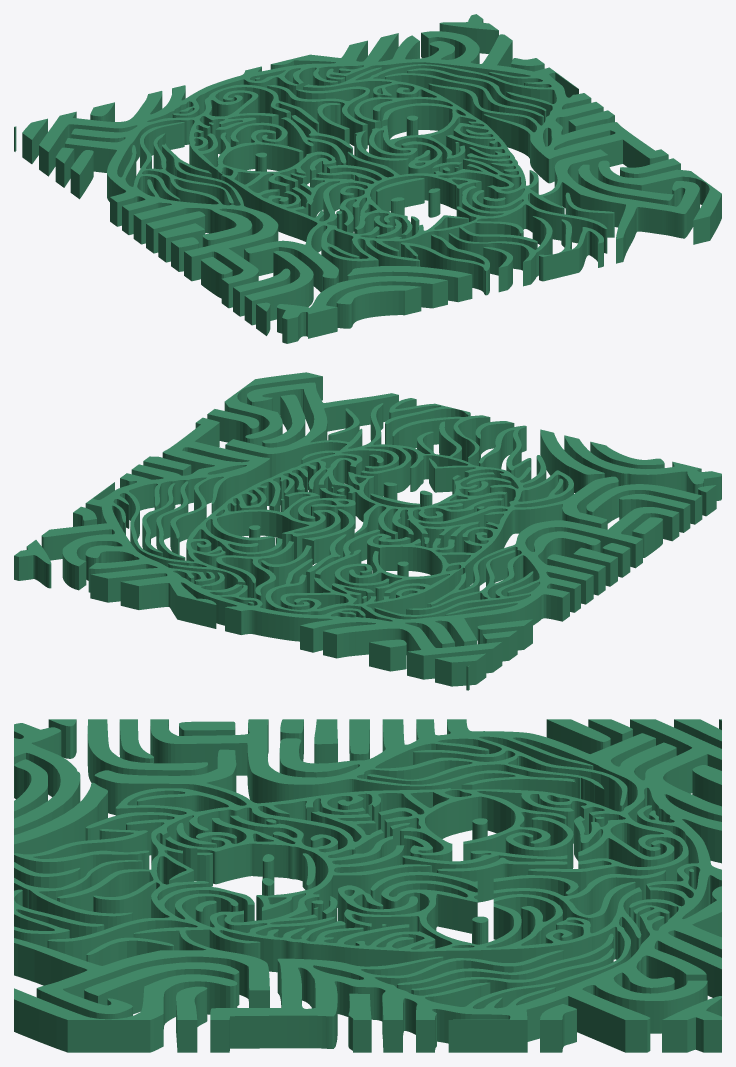
Rendered from dog_maze.glb.
3 views of the same model, one above another, from view 1: azimuth 30°, elevation 25°; view 2: azimuth 150°, elevation 25°; view 3: azimuth 270°, elevation 25° (orthographic). The views are drawn at different scales.
Parts seen in each view (by area): view 1: Mesh_Mesh_head_geo.001_lambert2SG.001; view 2: Mesh_Mesh_head_geo.001_lambert2SG.001; view 3: Mesh_Mesh_head_geo.001_lambert2SG.001.
Boxes of the visible parts, x1,y1,x2,y2 form: Mesh_Mesh_head_geo.001_lambert2SG.001: [14, 14, 721, 343]; Mesh_Mesh_head_geo.001_lambert2SG.001: [14, 372, 721, 690]; Mesh_Mesh_head_geo.001_lambert2SG.001: [14, 719, 721, 1052].
Bounding box in the file's own units: 198 × 10 × 197.
